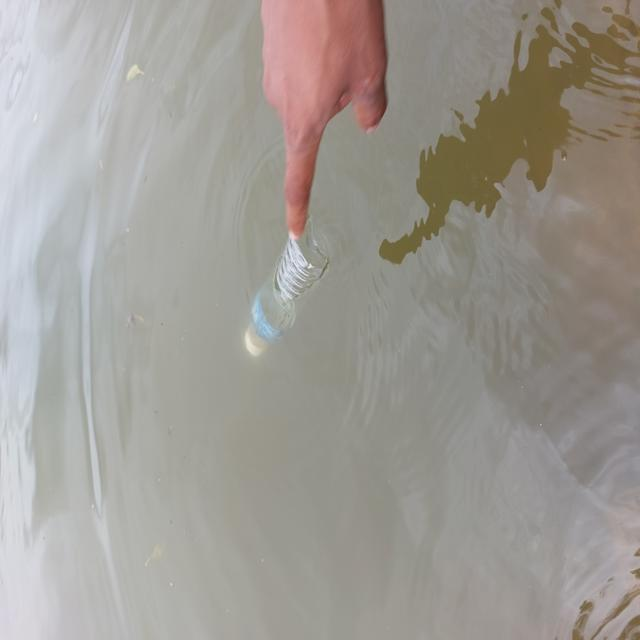waterbottle: (232, 226, 356, 364)
